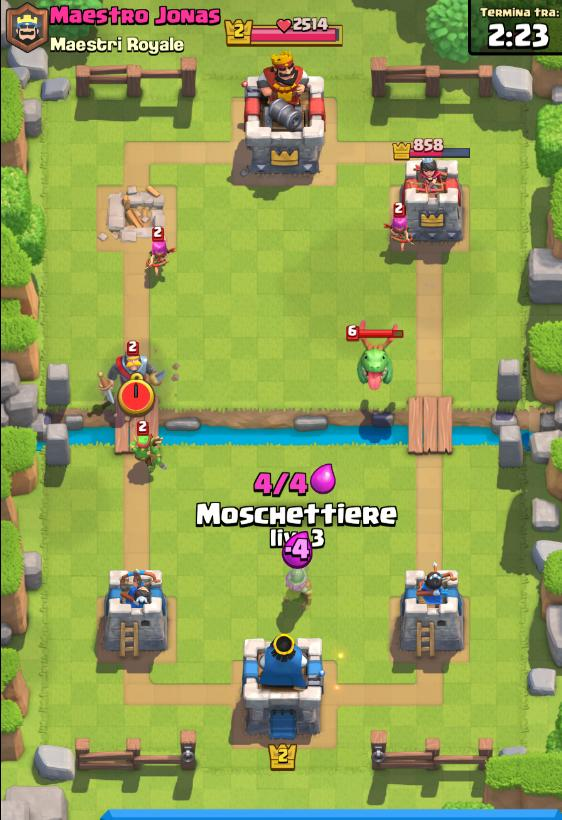enemy_archer: (146, 228, 171, 278), (388, 209, 409, 246)
enemy_baby_dragon: (344, 324, 408, 396)
enemy_knight: (98, 338, 170, 406)
enemy_spear_goblin: (131, 422, 160, 466)
